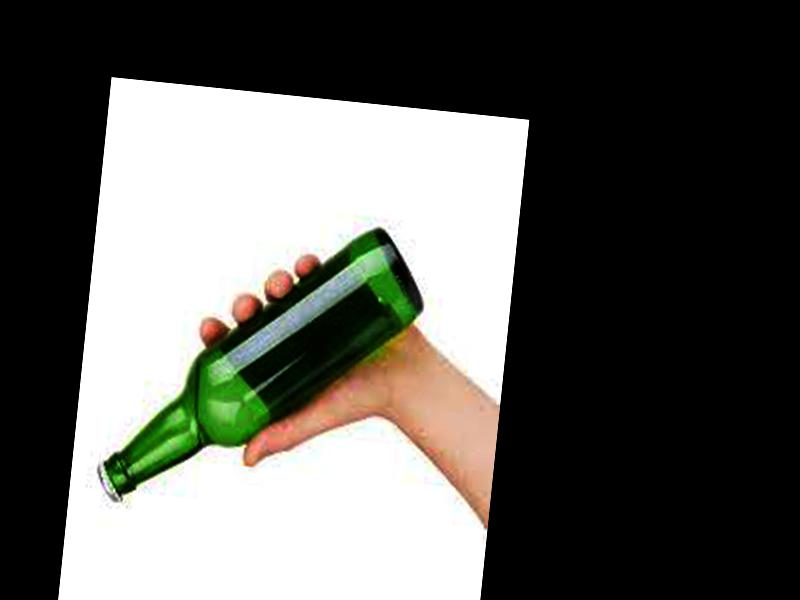Beer: (98, 205, 435, 531)
